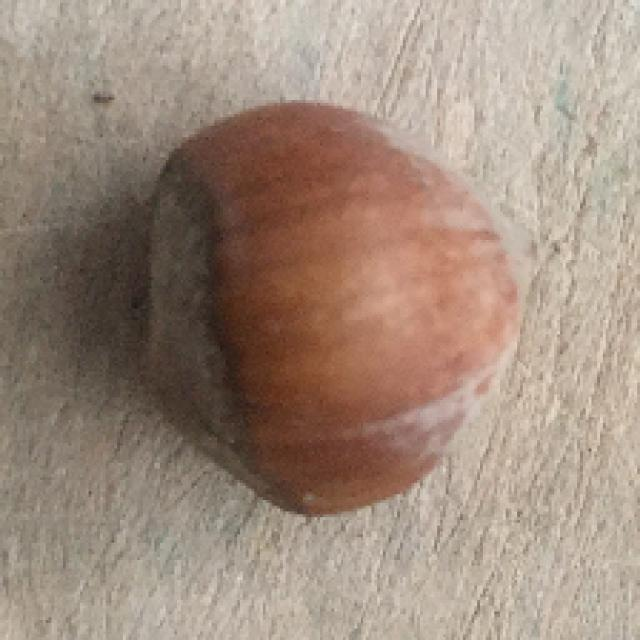QualityHazelnut: (146, 97, 540, 515)
